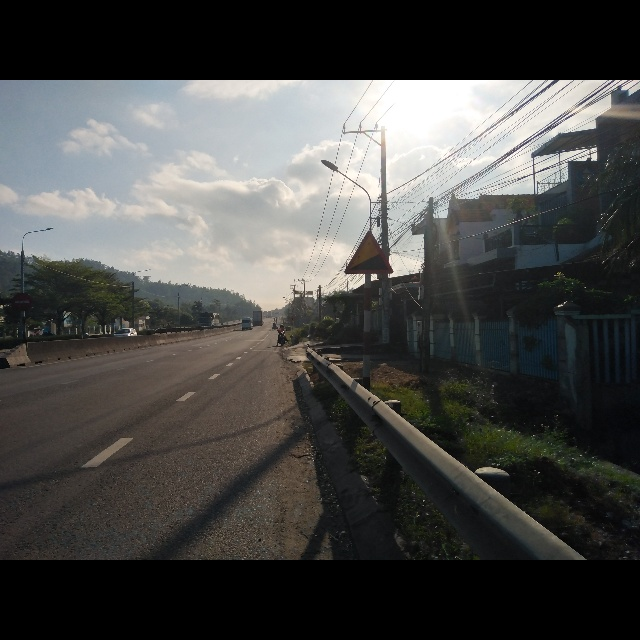Dốc lên nguy hiểm: (345, 231, 393, 275)
